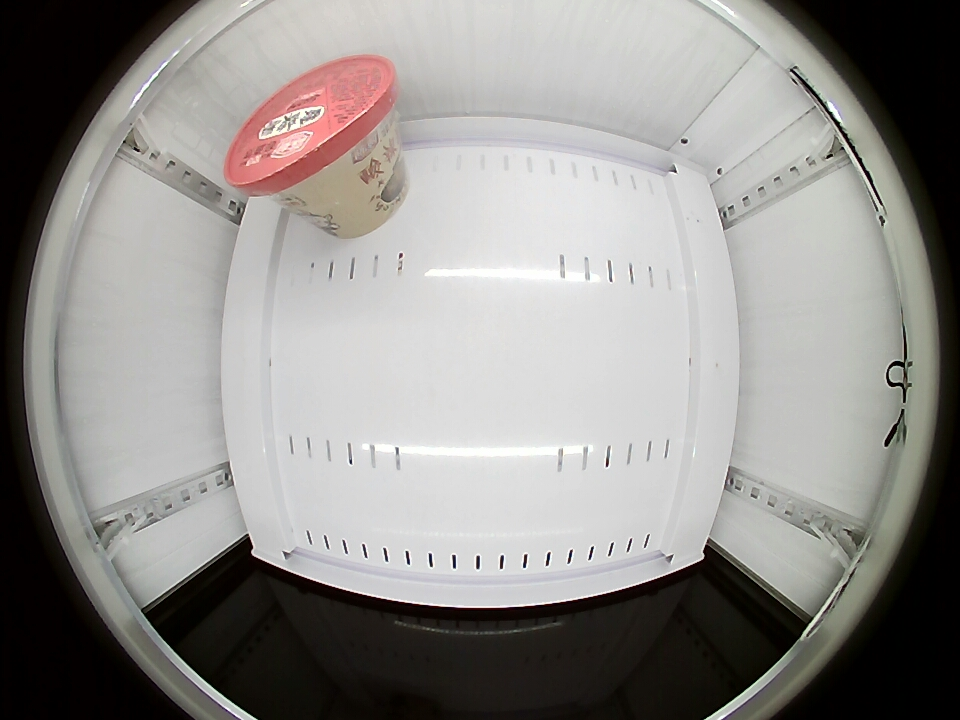suanlafen: (224, 55, 399, 202)
